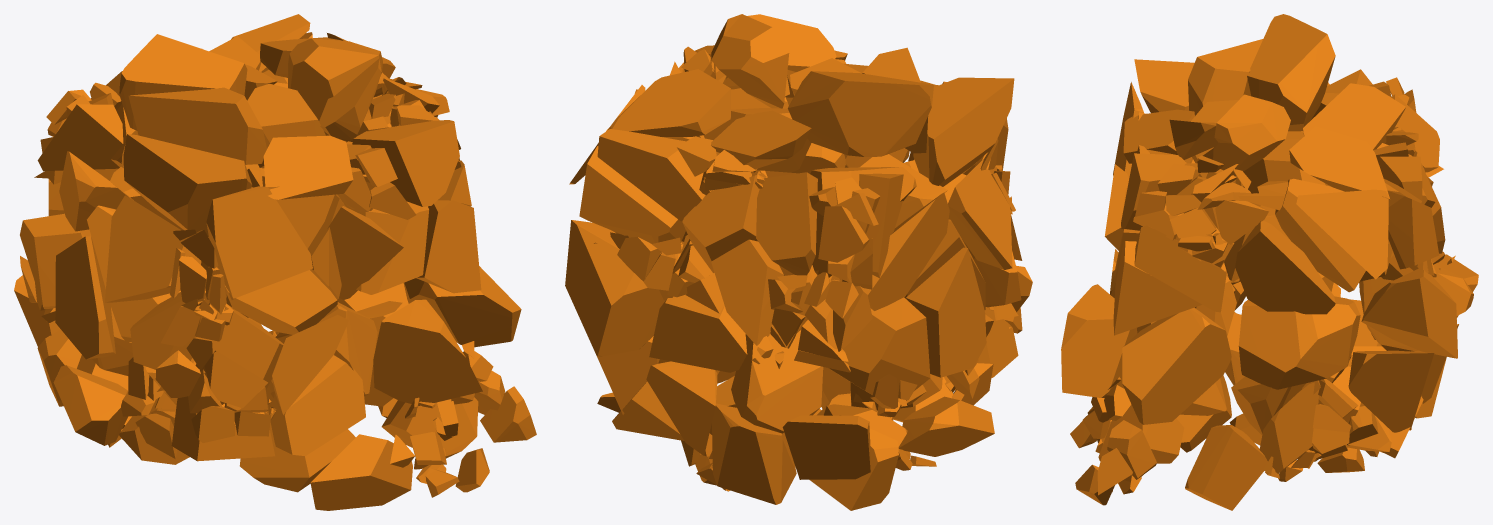
The model's file is Explode_Cube.f0002.glb.
The picture shows the model from 3 angles, left to right: view 1: azimuth 30°, elevation 25°; view 2: azimuth 150°, elevation 25°; view 3: azimuth 270°, elevation 25°; orthographic projection. The views are drawn at different scales.
Parts seen in each view (by area): view 1: Cube.125_cell.092, Cube.125_cell.038, Cube.125_cell.081, Cube.125_cell.011, Cube.125_cell.046, Cube.125_cell.079, Cube.125_cell.003, Cube.125_cell.069, Cube.125_cell.001, Cube.125_cell.052, Cube.125_cell.088, Cube.125_cell.056 (+57 smaller); view 2: Cube.125_cell.003, Cube.125_cell.013, Cube.125_cell.081, Cube.125_cell.001, Cube.125_cell.026, Cube.125_cell.070, Cube.125_cell.024, Cube.125_cell.034, Cube.125_cell.028, Cube.125_cell.023, Cube.125_cell.066, Cube.125_cell.029 (+49 smaller); view 3: Cube.125_cell.056, Cube.125_cell.085, Cube.125_cell.003, Cube.125_cell.053, Cube.125_cell.013, Cube.125_cell.038, Cube.125_cell.073, Cube.125_cell.020, Cube.125_cell.044, Cube.125_cell.034, Cube.125_cell.029, Cube.125_cell.037 (+52 smaller).
Boxes of the visible parts, x1=… form: Cube.125_cell.092: x1=206, y1=186, x2=312, y2=298; Cube.125_cell.038: x1=373, y1=299, x2=482, y2=405; Cube.125_cell.081: x1=123, y1=134, x2=252, y2=236; Cube.125_cell.011: x1=128, y1=87, x2=266, y2=164; Cube.125_cell.046: x1=105, y1=195, x2=201, y2=302; Cube.125_cell.079: x1=266, y1=355, x2=365, y2=455; Cube.125_cell.003: x1=119, y1=34, x2=247, y2=130; Cube.125_cell.069: x1=352, y1=120, x2=459, y2=206; Cube.125_cell.001: x1=55, y1=236, x2=115, y2=359; Cube.125_cell.052: x1=310, y1=434, x2=412, y2=510; Cube.125_cell.088: x1=263, y1=135, x2=353, y2=199; Cube.125_cell.056: x1=403, y1=266, x2=521, y2=347; Cube.125_cell.003: x1=787, y1=71, x2=933, y2=156; Cube.125_cell.013: x1=565, y1=220, x2=665, y2=356; Cube.125_cell.081: x1=913, y1=77, x2=1014, y2=186; Cube.125_cell.001: x1=905, y1=247, x2=986, y2=377; Cube.125_cell.026: x1=712, y1=403, x2=796, y2=504; Cube.125_cell.070: x1=731, y1=330, x2=823, y2=433; Cube.125_cell.024: x1=829, y1=297, x2=930, y2=398; Cube.125_cell.034: x1=606, y1=69, x2=730, y2=137; Cube.125_cell.028: x1=597, y1=129, x2=705, y2=221; Cube.125_cell.023: x1=649, y1=294, x2=747, y2=372; Cube.125_cell.066: x1=756, y1=172, x2=817, y2=275; Cube.125_cell.029: x1=711, y1=14, x2=789, y2=108; Cube.125_cell.056: x1=1122, y1=307, x2=1231, y2=424; Cube.125_cell.085: x1=1238, y1=296, x2=1360, y2=389; Cube.125_cell.003: x1=1247, y1=14, x2=1335, y2=131; Cube.125_cell.053: x1=1235, y1=220, x2=1335, y2=314; Cube.125_cell.013: x1=1361, y1=268, x2=1457, y2=358; Cube.125_cell.038: x1=1061, y1=284, x2=1137, y2=397; Cube.125_cell.073: x1=1296, y1=189, x2=1388, y2=279; Cube.125_cell.020: x1=1348, y1=350, x2=1434, y2=432; Cube.125_cell.044: x1=1185, y1=425, x2=1267, y2=510; Cube.125_cell.034: x1=1289, y1=126, x2=1389, y2=199; Cube.125_cell.029: x1=1213, y1=94, x2=1290, y2=176; Cube.125_cell.037: x1=1134, y1=225, x2=1226, y2=312.
Bounding box in the file's own units: 1.58 × 1.7 × 1.63.
